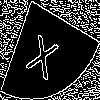X: (24, 24, 63, 81)
